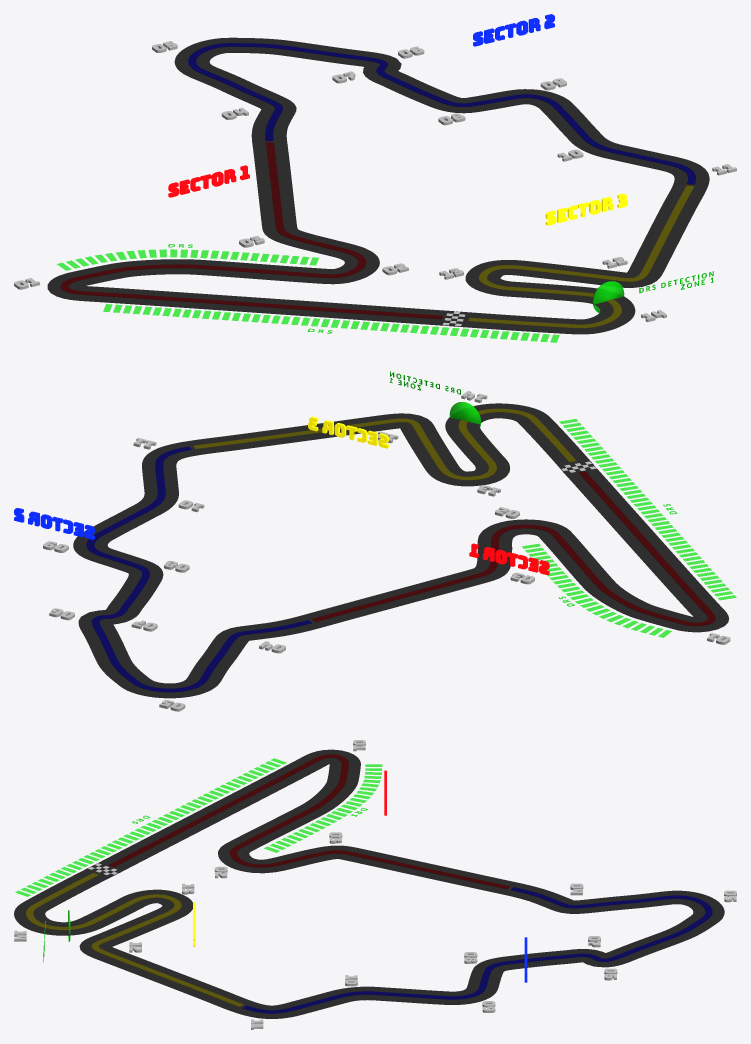
File: hungaroring.gltf
3 views of the same model, one above another, from view 1: azimuth 30°, elevation 25°; view 2: azimuth 150°, elevation 25°; view 3: azimuth 270°, elevation 25° (orthographic). The views are drawn at different scales.
Visible parts, largest first — view 1: track plane, sector plane.001, sector plane.002, sector plane.003, DRSPlane1, DRSPlane2, Text.002, Text.001, Text, DrsDetect1; view 2: track plane, sector plane.001, sector plane.002, DRSPlane1, sector plane.003, DRSPlane2, Text.001, Text.002, Text; view 3: track plane, sector plane.001, sector plane.002, sector plane.003, DRSPlane1, DRSPlane2.
Boxes of the visible parts, x1,y1,x2,y2 form: track plane: (47,37,709,334); sector plane.001: (60,142,442,319); sector plane.002: (188,43,695,184); sector plane.003: (468,185,694,328); DRSPlane1: (103,304,559,342); DRSPlane2: (57,249,318,270); Text.002: (545,193,627,225); Text.001: (473,14,554,46); Text: (168,165,249,197); DrsDetect1: (592,281,624,312); track plane: (73,403,728,698); sector plane.001: (312,471,715,626); sector plane.002: (86,446,311,692); DRSPlane1: (559,419,736,600); sector plane.003: (193,408,576,480); DRSPlane2: (522,543,671,637); Text.001: (14,508,94,539); Text.002: (308,416,388,448); Text: (469,543,549,575); track plane: (14,749,724,1018); sector plane.001: (109,754,510,889); sector plane.002: (242,887,712,1013); sector plane.003: (26,873,243,1006); DRSPlane1: (15,758,286,896); DRSPlane2: (264,764,382,852).
Bounding box in the file's own units: 81.39 × 7.52 × 86.5.
